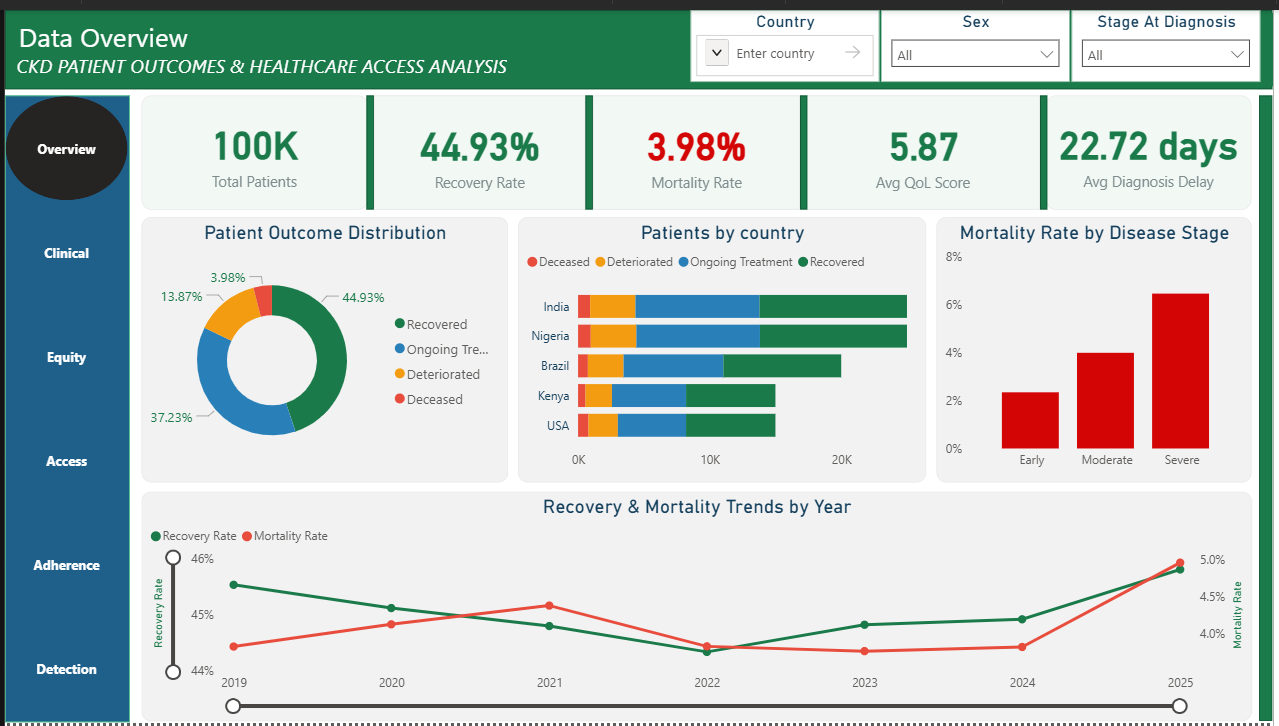

Layout of this report page (visuals, bound fields, positions):
{"tool":"powerbi","page":{"name":"Overview","canvas":[1280,720],"ordinal":0},"visuals":[{"type":"card","fields":{"Values":["Measures (2).Total Patients"]},"box":[137.8,86.3,228.6,115.1],"z":0},{"type":"shape","box":[0,0,1279.4,80],"z":1000},{"type":"textbox","box":[1.9,3,1279.4,74],"z":2000},{"type":"card","fields":{"Values":["Measures (2).Recovery Rate %"]},"box":[372.9,86.3,213.5,115.1],"z":3000},{"type":"card","fields":{"Values":["Measures (2).Mortality Rate %"]},"box":[592.8,86.3,209,115.1],"z":4000},{"type":"card","fields":{"Values":["Measures (2).Avg QoL Score"]},"box":[808.2,86.3,236.2,115.1],"z":5000},{"type":"card","fields":{"Values":["Measures (2).Avg Diagnosis Delay"]},"box":[1050.9,86.3,207.4,115.1],"z":6000},{"type":"donutChart","title":"Patient Outcome Distribution","fields":{"Y":["Measures (2).Total Patients"],"Category":["ckd_clean.primary_outcome"]},"box":[138,209,370,268],"z":7000},{"type":"barChart","title":"Patients by country","fields":{"Category":["ckd_clean.country"],"Y":["Measures (2).Total Patients"],"Series":["ckd_clean.Primary Outcome"]},"box":[518,209,412,268],"z":8000},{"type":"clusteredColumnChart","title":"Mortality Rate by Disease Stage","fields":{"Y":["Measures (2).Mortality Rate %"],"Category":["ckd_clean.disease_stage_at_diagnosis"]},"box":[940.3,209,318,268],"z":9000},{"type":"lineChart","title":"Recovery & Mortality Trends by Year","fields":{"Category":["ckd_clean.diagnosis_date.Variation.Date Hierarchy.Year"],"Y":["Measures (2).Recovery Rate %"],"Y2":["Measures (2).Mortality Rate %"]},"box":[137.8,486.1,1120.5,231.7],"z":10000},{"type":"textSlicer","title":"Country","fields":{"Values":["ckd_clean.country"]},"box":[691.9,0,190.8,72.7],"z":11000},{"type":"slicer","title":"Sex","fields":{"Values":["ckd_clean.sex"]},"box":[884.9,0,190.8,72.7],"z":12000},{"type":"slicer","title":"Stage At Diagnosis","fields":{"Values":["ckd_clean.disease_stage_at_diagnosis"]},"box":[1076.9,0,190.8,72.7],"z":13000},{"type":"shape","box":[1265.9,86.3,13.6,631.4],"z":14000},{"type":"shape","box":[364.9,86.3,7.6,115.1],"z":15000},{"type":"shape","box":[586,86.3,7.6,115.1],"z":16000},{"type":"shape","box":[802.5,86.3,7.6,115.1],"z":17000},{"type":"shape","box":[1044.8,86.3,7.6,115.1],"z":18000},{"type":"pageNavigator","box":[0,86.3,125.7,632.9],"z":19000}]}

Visuals, with their boxes in screenshot pixels (x1, y1, x2, y2), scaled from the page's 1280x720 canvas onto the 1279x726 screenshot:
card - Measures (2).Total Patients: bbox(138, 87, 366, 203)
shape: bbox(0, 0, 1278, 81)
textbox: bbox(2, 3, 1278, 78)
card - Measures (2).Recovery Rate %: bbox(373, 87, 586, 203)
card - Measures (2).Mortality Rate %: bbox(592, 87, 801, 203)
card - Measures (2).Avg QoL Score: bbox(808, 87, 1044, 203)
card - Measures (2).Avg Diagnosis Delay: bbox(1050, 87, 1257, 203)
"Patient Outcome Distribution" donutChart: bbox(138, 211, 508, 481)
"Patients by country" barChart: bbox(518, 211, 929, 481)
"Mortality Rate by Disease Stage" clusteredColumnChart: bbox(940, 211, 1257, 481)
"Recovery & Mortality Trends by Year" lineChart: bbox(138, 490, 1257, 724)
"Country" textSlicer: bbox(691, 0, 882, 73)
"Sex" slicer: bbox(884, 0, 1075, 73)
"Stage At Diagnosis" slicer: bbox(1076, 0, 1267, 73)
shape: bbox(1265, 87, 1278, 724)
shape: bbox(365, 87, 372, 203)
shape: bbox(586, 87, 593, 203)
shape: bbox(802, 87, 809, 203)
shape: bbox(1044, 87, 1052, 203)
pageNavigator: bbox(0, 87, 126, 725)
